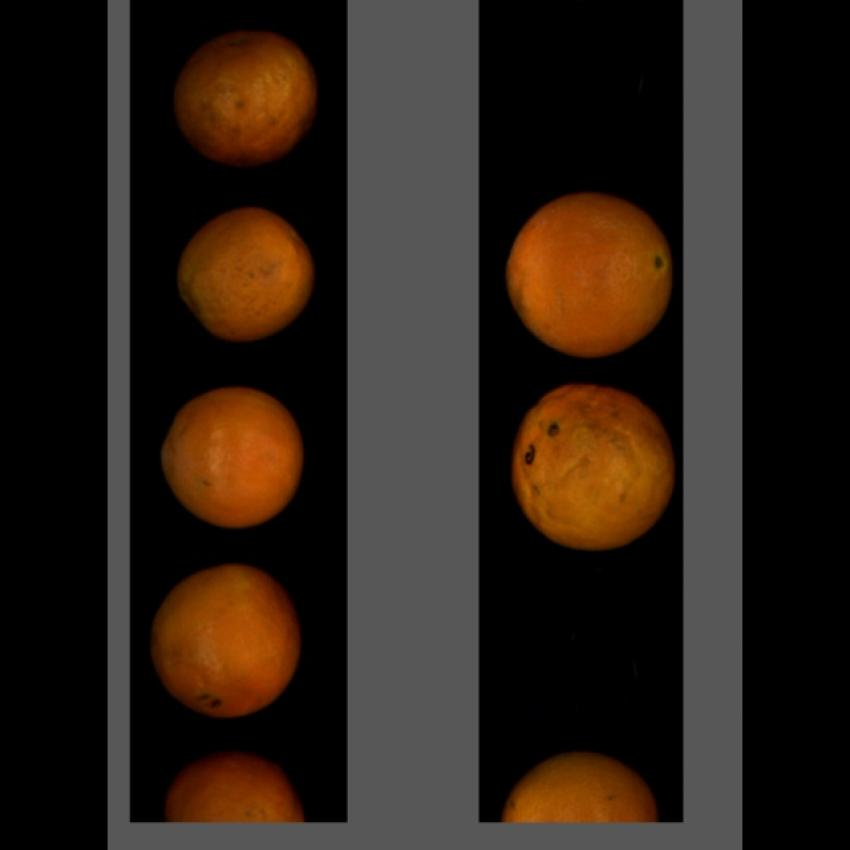Buen estado: (504, 195, 673, 364), (150, 563, 305, 718), (159, 387, 303, 526), (502, 753, 670, 821), (164, 746, 309, 824)
Mal estado: (510, 385, 676, 553), (170, 31, 324, 166), (176, 205, 318, 343)
